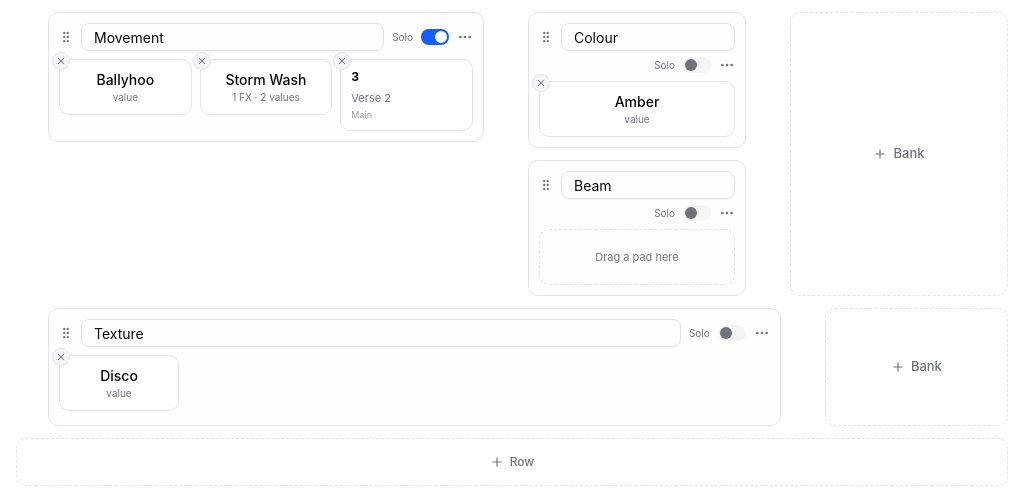
it: renaming a bank › puts the stored name back on Escape and writes nothing
The width and height of the screenshot is (1024, 503).
Replace the text in the 1st field named "Bank name" with "Nope" at (233, 37), box top-left (81, 23), bottom-right (384, 51)
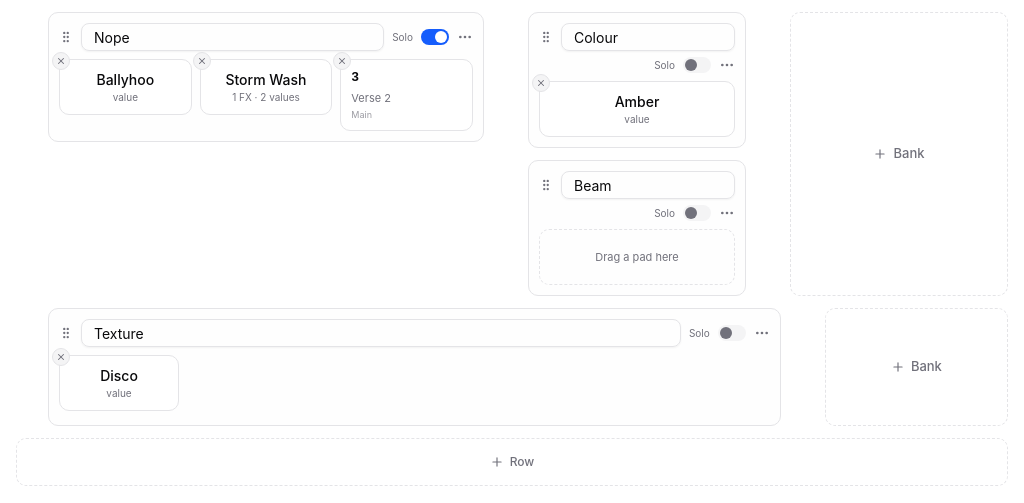
Press Escape in the 1st field named "Bank name", box top-left (81, 23), bottom-right (384, 51)
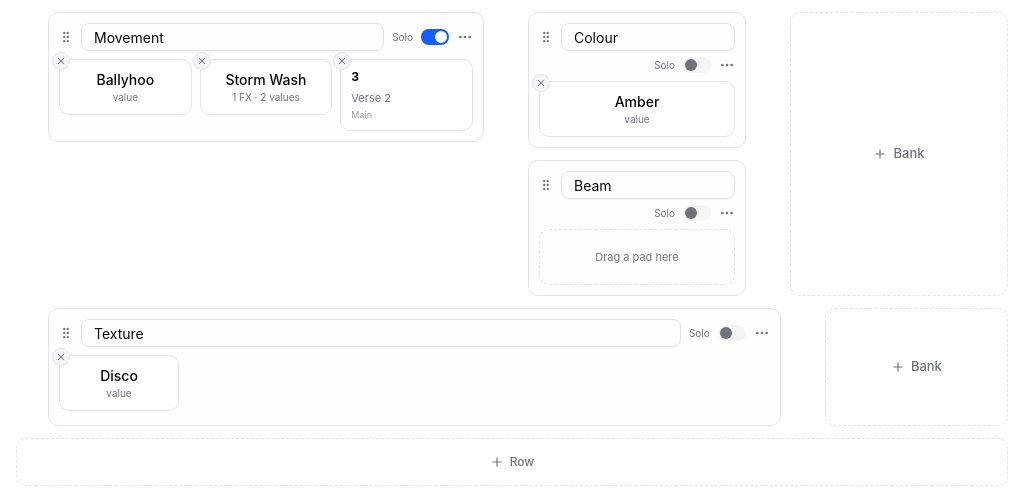
expect the 1st field named "Bank name" holds "Movement": met, box top-left (81, 23), bottom-right (384, 51)
